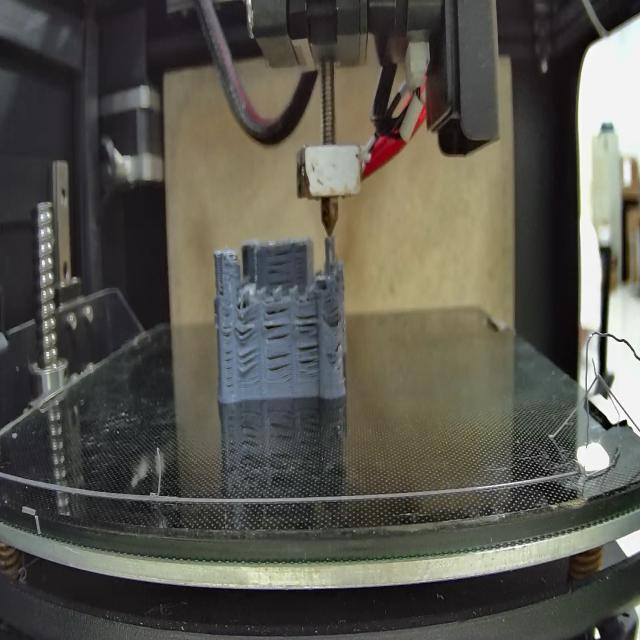cracks: (266, 246, 294, 286), (265, 305, 292, 342), (221, 319, 233, 391), (299, 344, 320, 376), (269, 351, 292, 380), (235, 315, 259, 339), (239, 350, 259, 376), (296, 311, 318, 333), (329, 297, 341, 329), (332, 340, 346, 355), (217, 280, 225, 298)
